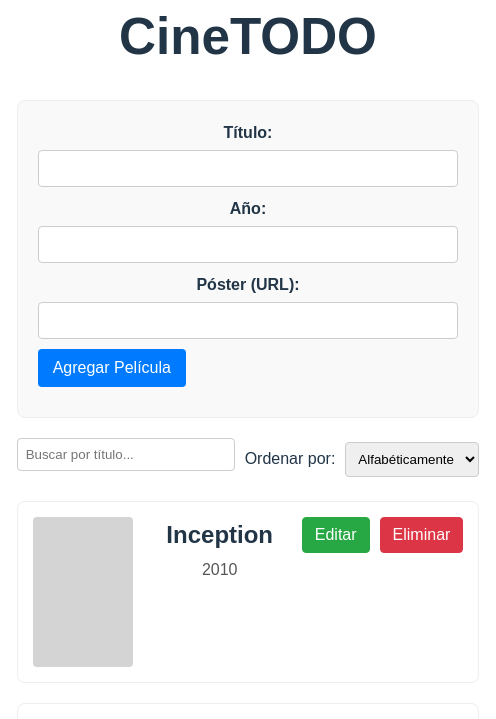
Scenario: App Component › filtra películas por búsqueda
Expected: the heading "Inception" is shown, [166,521,273,548]
# Buscar por "Matrix"
Type "Matrix" into the field with placeholder "Buscar por título..." at (126, 454), box [17,438,235,471]
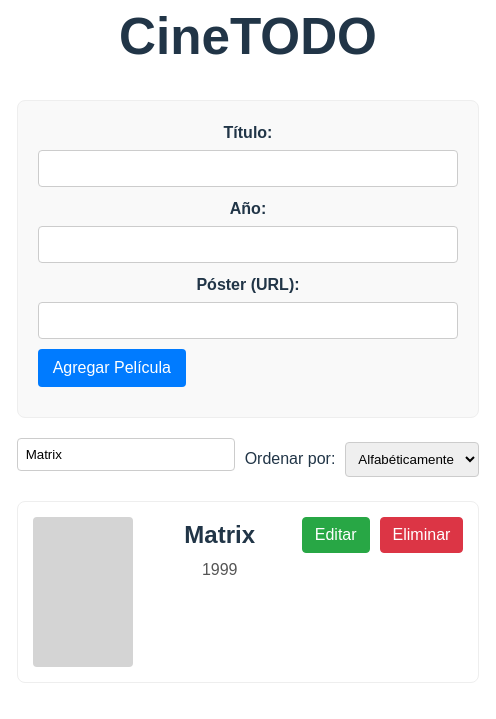
Expected: the heading "Matrix" is shown, [184,521,255,548]
Expected: the heading "Inception" is gone
